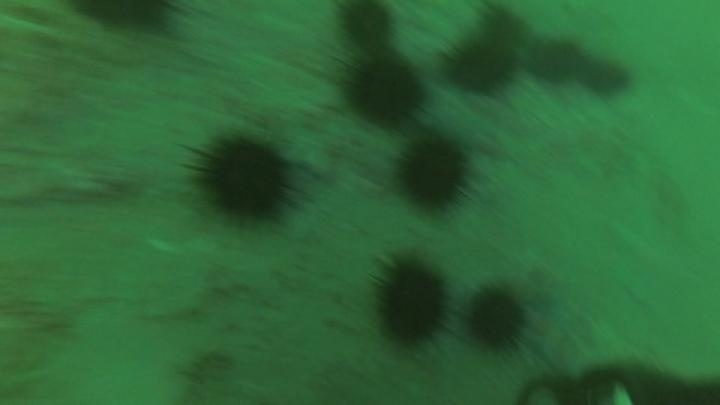echinus: (191, 133, 297, 225), (371, 256, 451, 349), (394, 135, 473, 213), (343, 55, 426, 128), (443, 36, 517, 97), (464, 284, 529, 353), (71, 1, 179, 33), (336, 1, 396, 49), (526, 37, 584, 86), (475, 4, 528, 49), (581, 55, 633, 99)
starfish: (519, 295, 593, 377)
